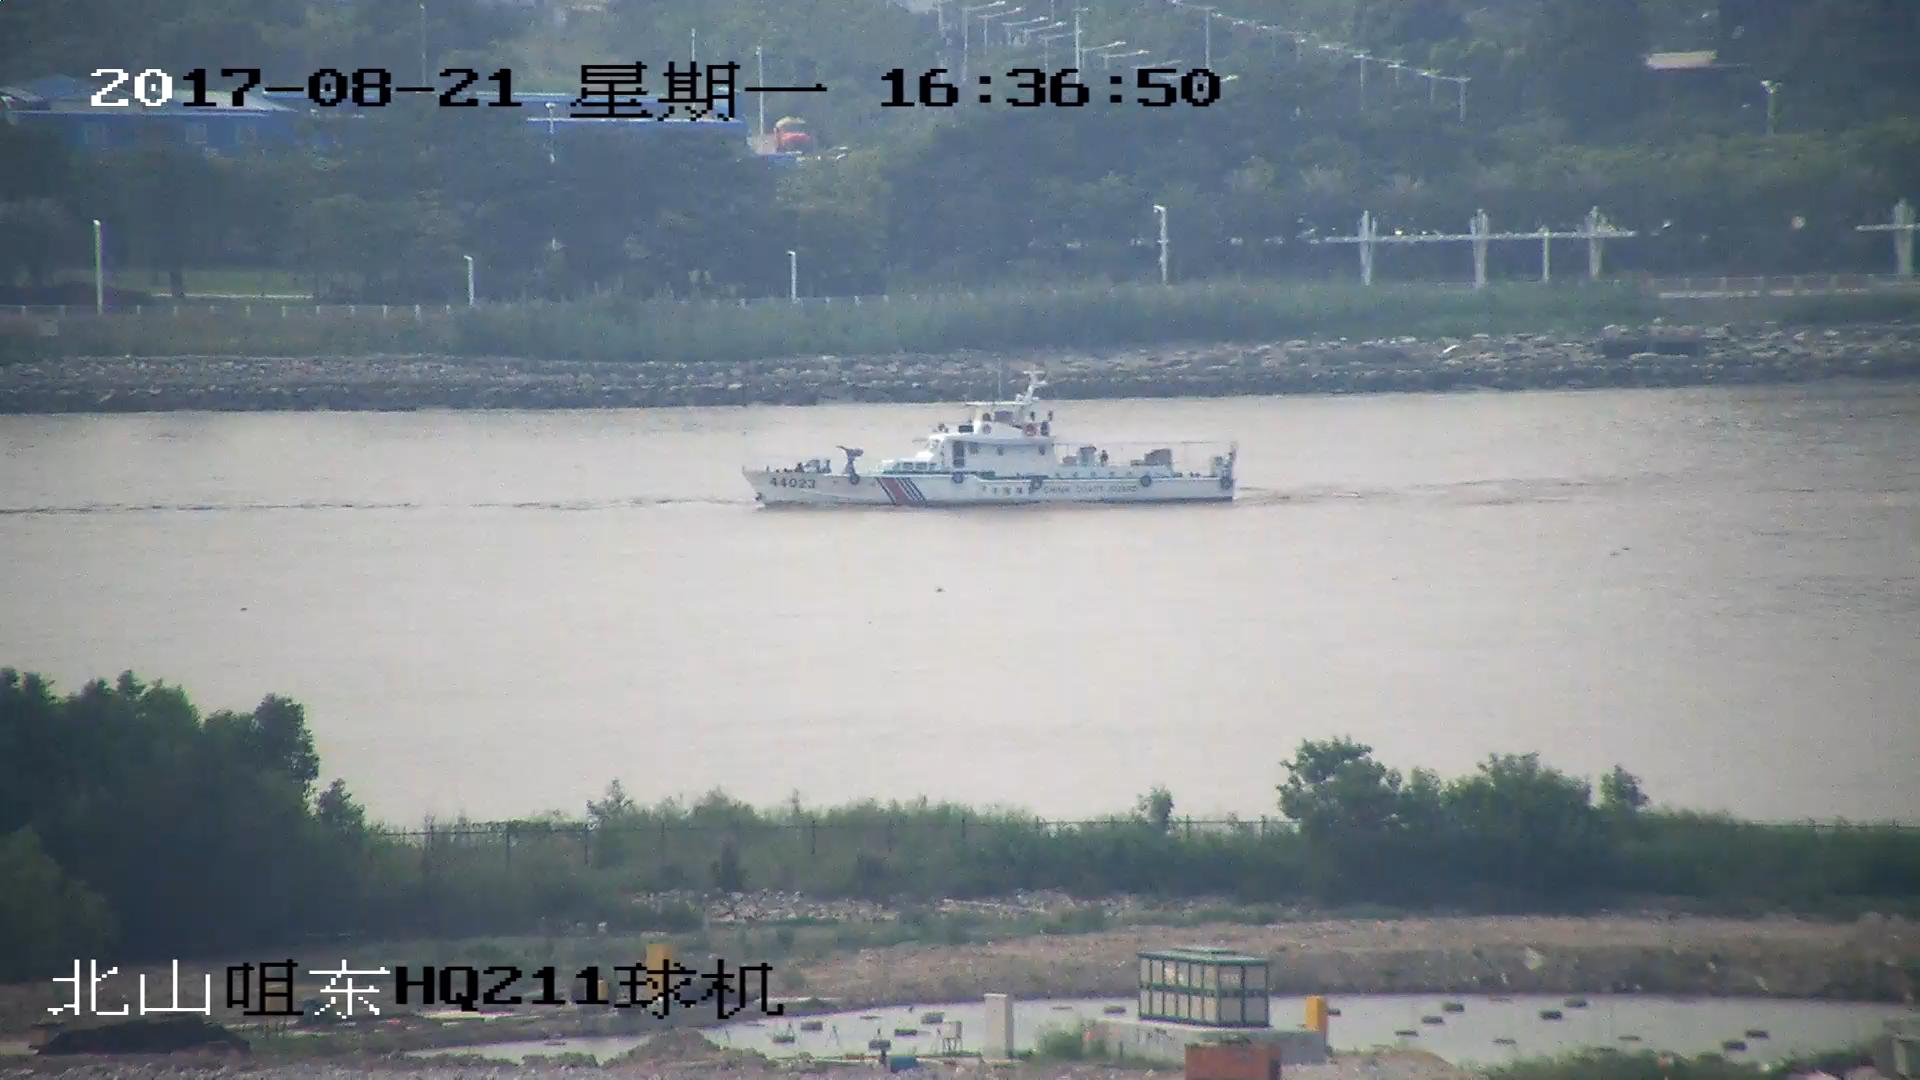passenger ship: (740, 375, 1238, 511)
